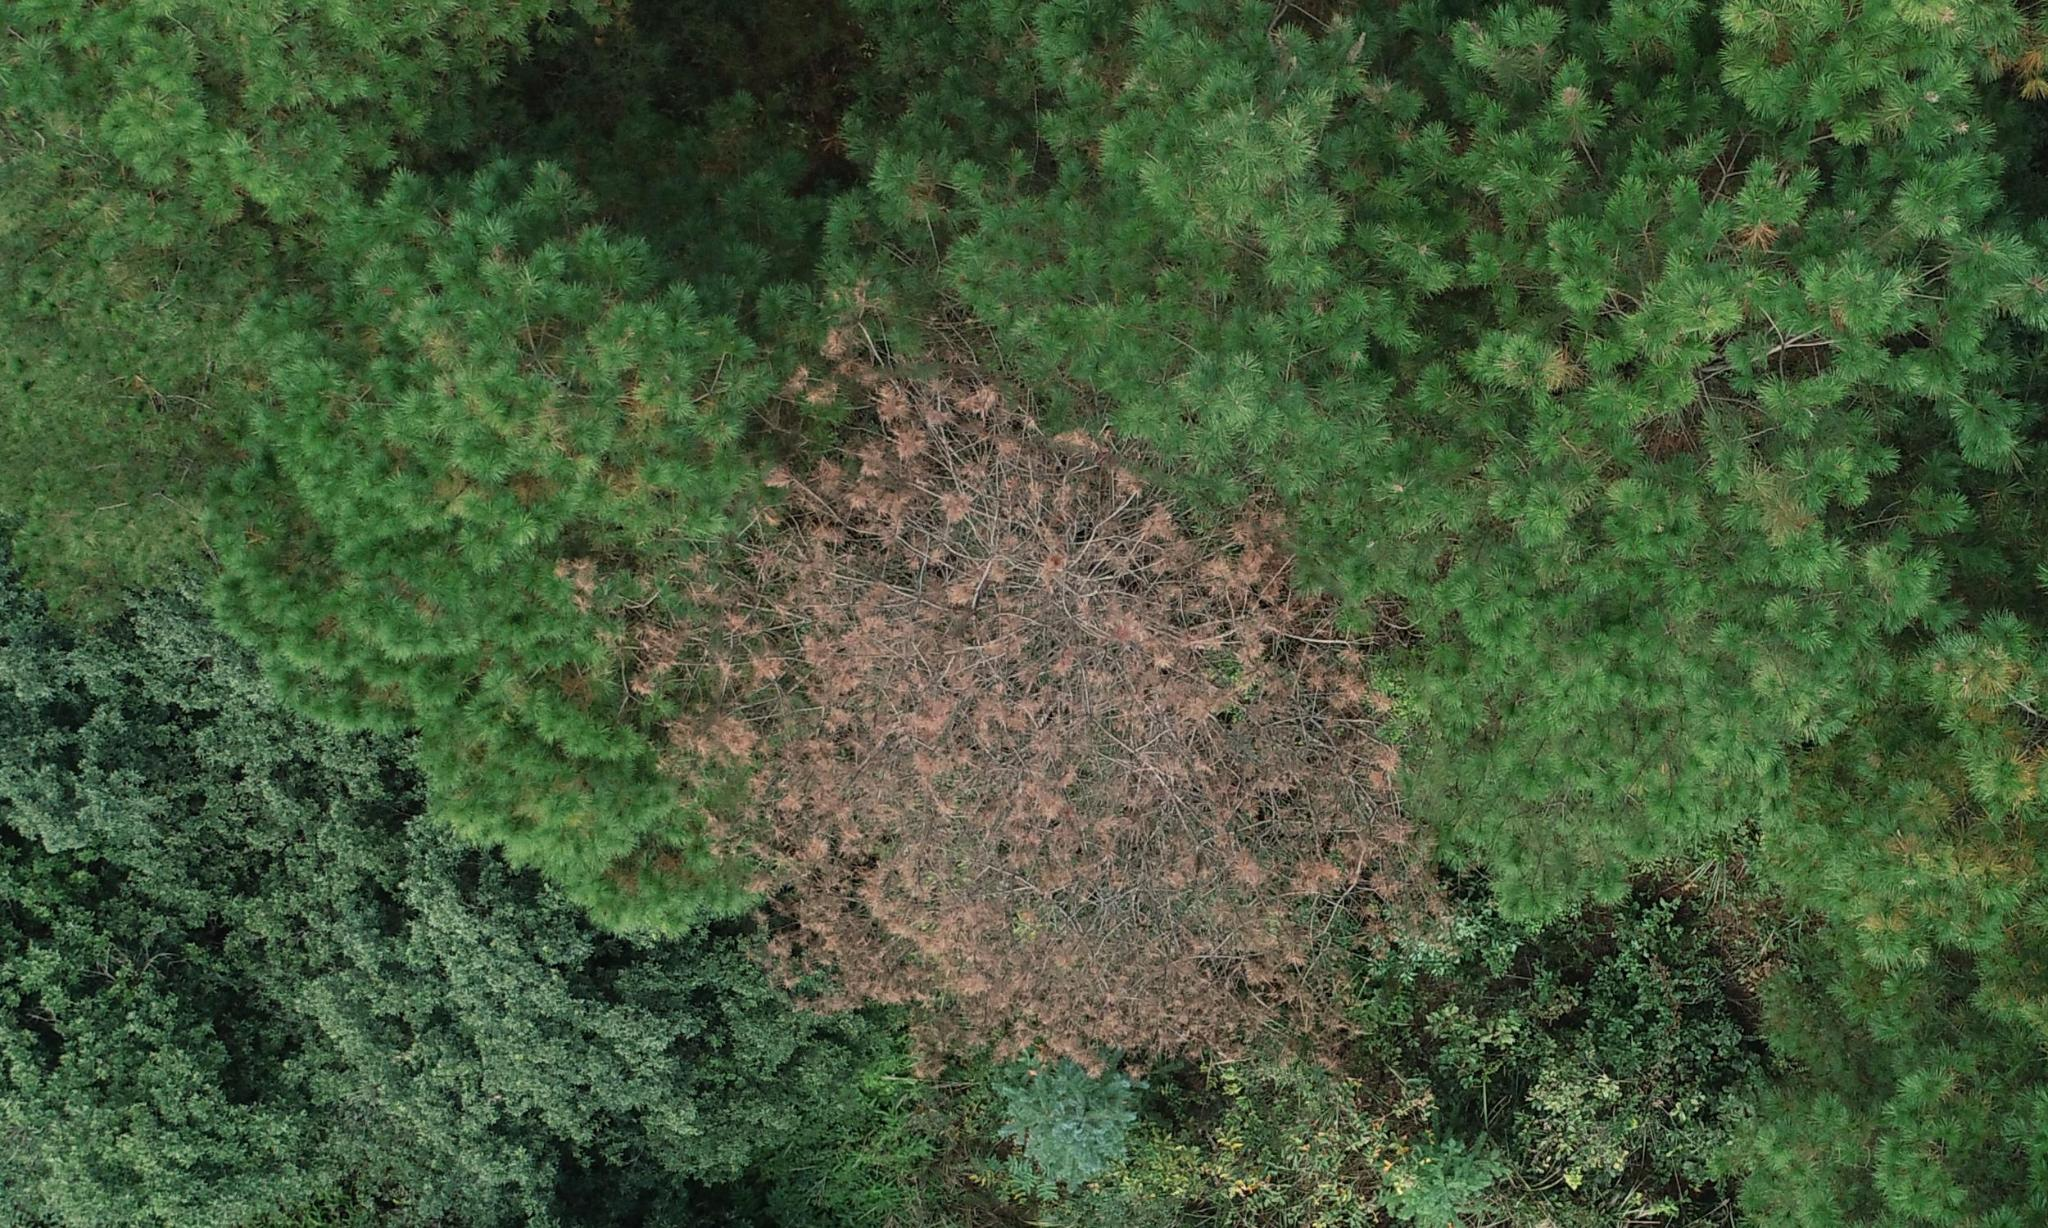heavy: (626, 292, 1455, 1121)
